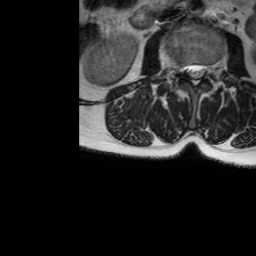CCS_normal: (192, 58, 199, 92)
LFS_normal: (207, 58, 216, 84)
LLS_normal: (199, 58, 208, 83)
RFS_normal: (176, 56, 184, 82)
RLS_normal: (184, 59, 192, 81)
